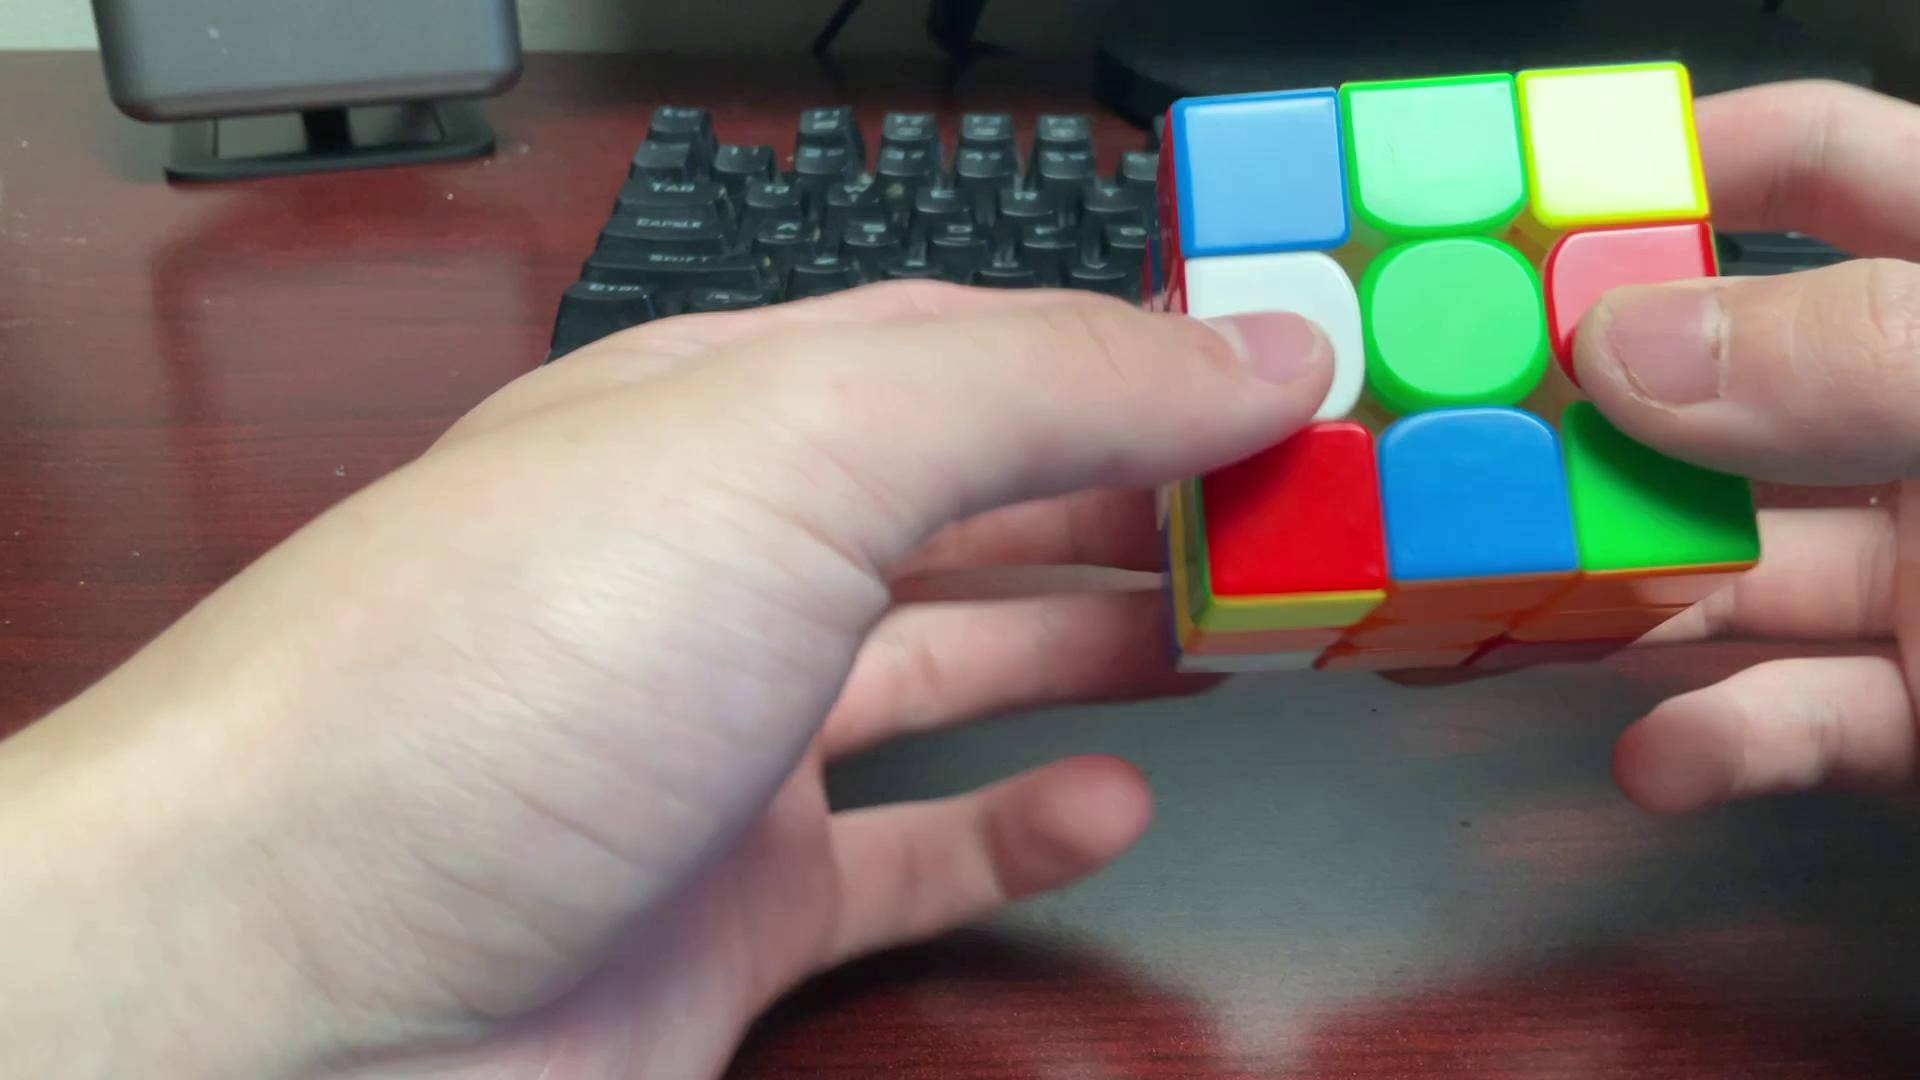Rubiks-Cube: (1150, 54, 1771, 687)
